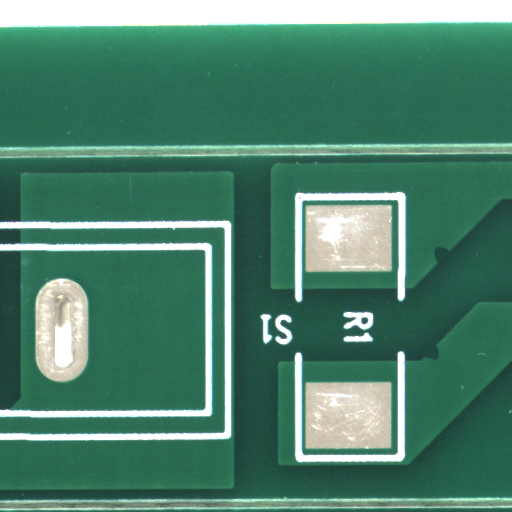Mouse_bite: (432, 352, 448, 367), (442, 255, 457, 270)
